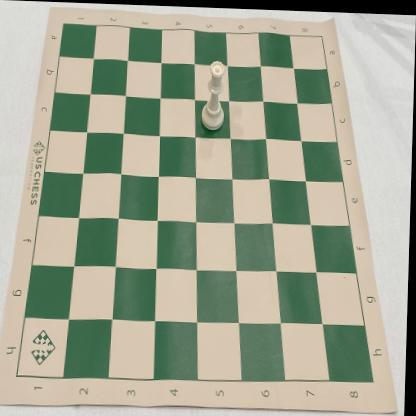white-queen: (202, 60, 227, 130)
